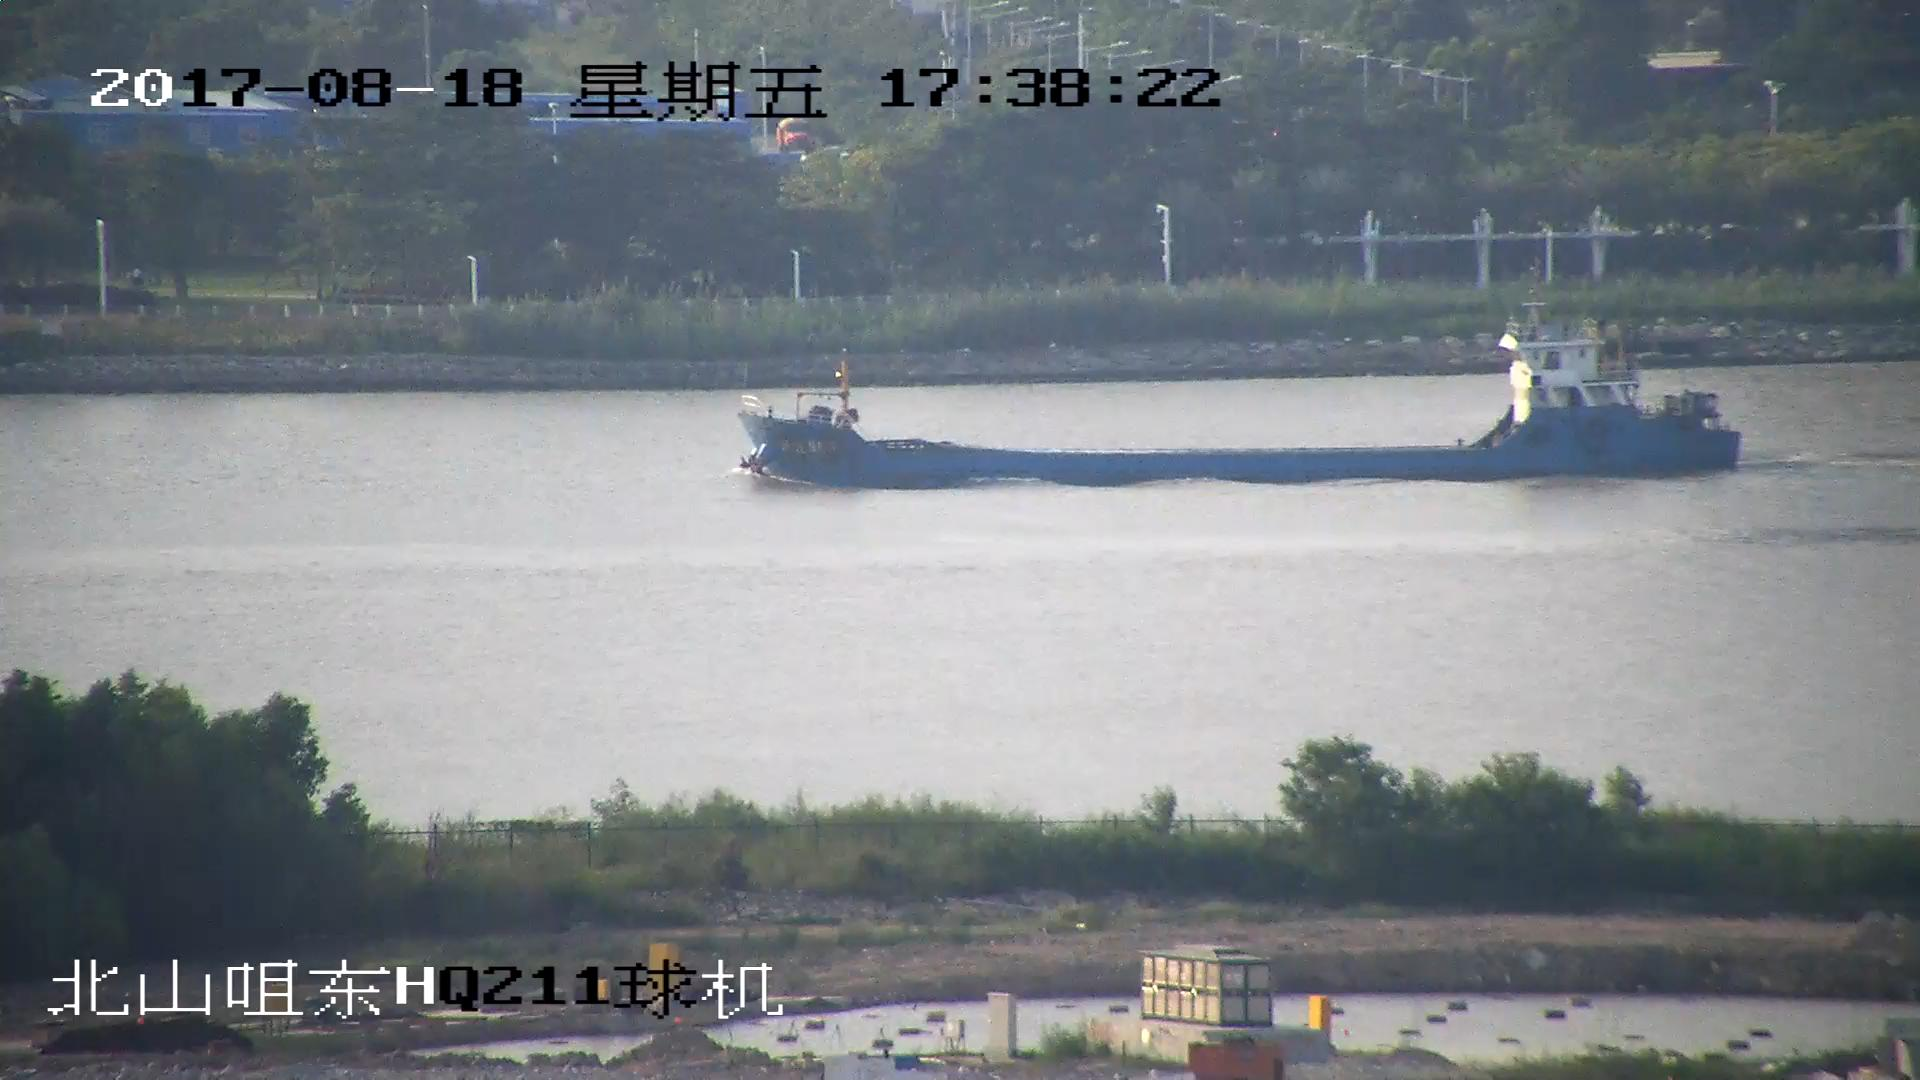general cargo ship: (735, 274, 1740, 489)
